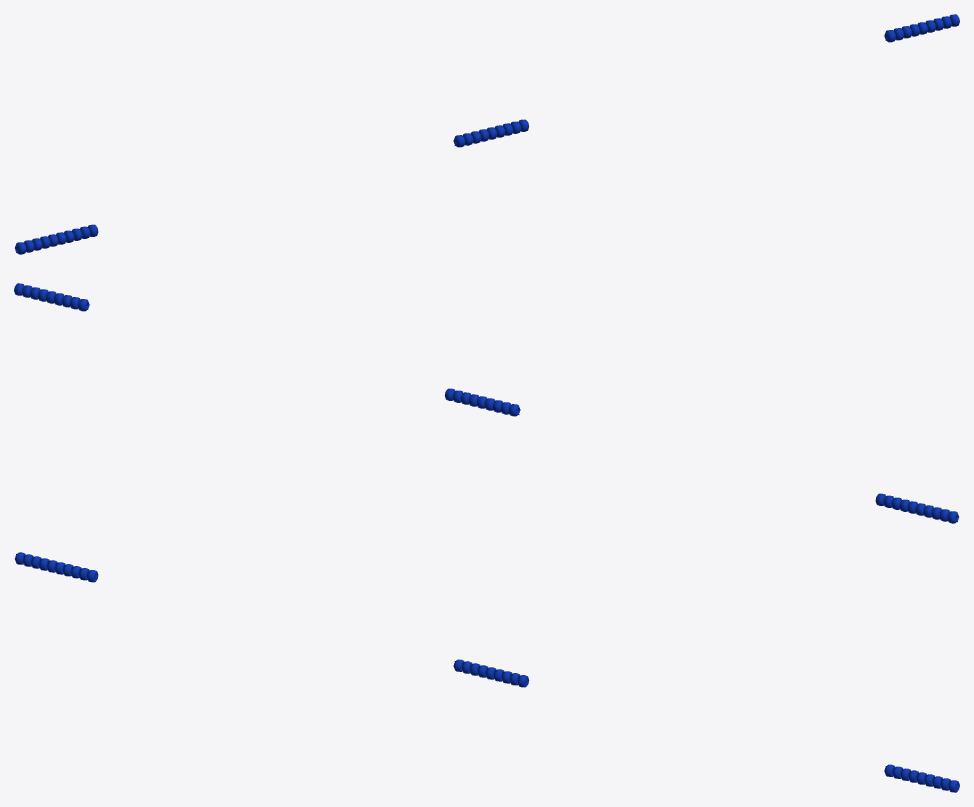
The model's file is LaneRope_75ft_LOD1_Tricolor_Cycle_sec1.obj.
3 views of the same model, one above another, from view 1: azimuth 30°, elevation 25°; view 2: azimuth 150°, elevation 25°; view 3: azimuth 330°, elevation 25° (orthographic).
Parts seen in each view (by area): view 1: section_02_sec1, section_08_sec1, section_14_sec1; view 2: section_02_sec1, section_08_sec1, section_14_sec1; view 3: section_02_sec1, section_08_sec1, section_14_sec1.
Boxes of the visible parts, bbox=[...] form: section_02_sec1: bbox=[14, 224, 98, 254]; section_08_sec1: bbox=[453, 119, 529, 147]; section_14_sec1: bbox=[884, 14, 959, 42]; section_02_sec1: bbox=[875, 493, 959, 523]; section_08_sec1: bbox=[444, 388, 520, 416]; section_14_sec1: bbox=[14, 283, 89, 311]; section_02_sec1: bbox=[14, 552, 98, 582]; section_08_sec1: bbox=[453, 659, 529, 687]; section_14_sec1: bbox=[884, 764, 959, 792].
Size of the model in its own units: 9.98 by 0.1206 by 0.1206.
